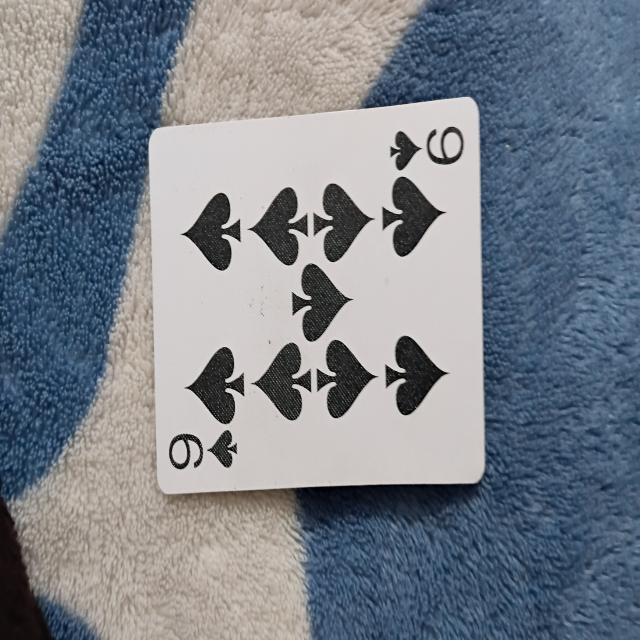9S: (142, 108, 488, 479)
